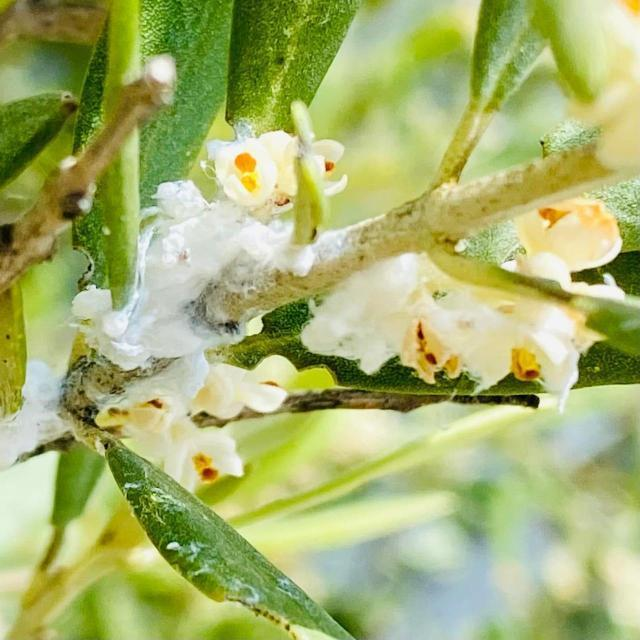Psyllid: (73, 102, 374, 382), (101, 436, 355, 640), (301, 255, 599, 388)
